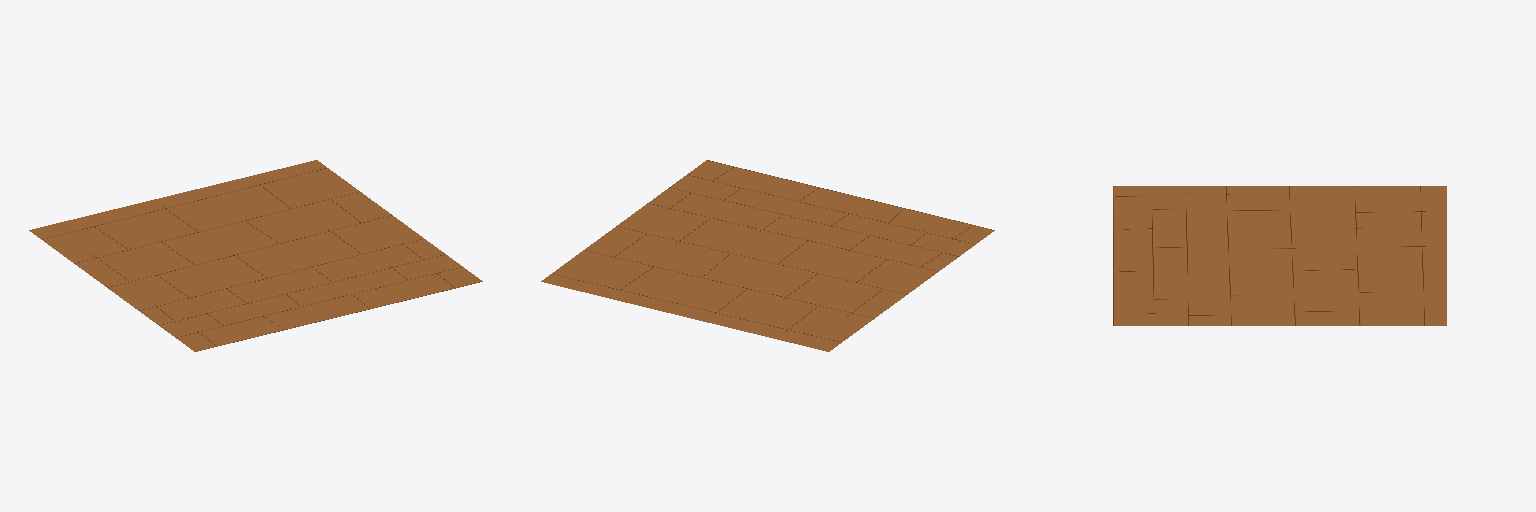
The picture shows the model from 3 angles: view 1: azimuth 30°, elevation 25°; view 2: azimuth 150°, elevation 25°; view 3: azimuth 270°, elevation 25°; orthographic projection.
Parts seen in each view (by area): view 1: 平面; view 2: 平面; view 3: 平面.
Part boxes in pixels (bbox=[...]): 平面: bbox=[29, 160, 482, 351]; 平面: bbox=[541, 160, 994, 351]; 平面: bbox=[1113, 186, 1446, 325].
Bounding box in the file's own units: 2000 × 0.0002 × 2000.
Materials: 1 (1 with a texture image).